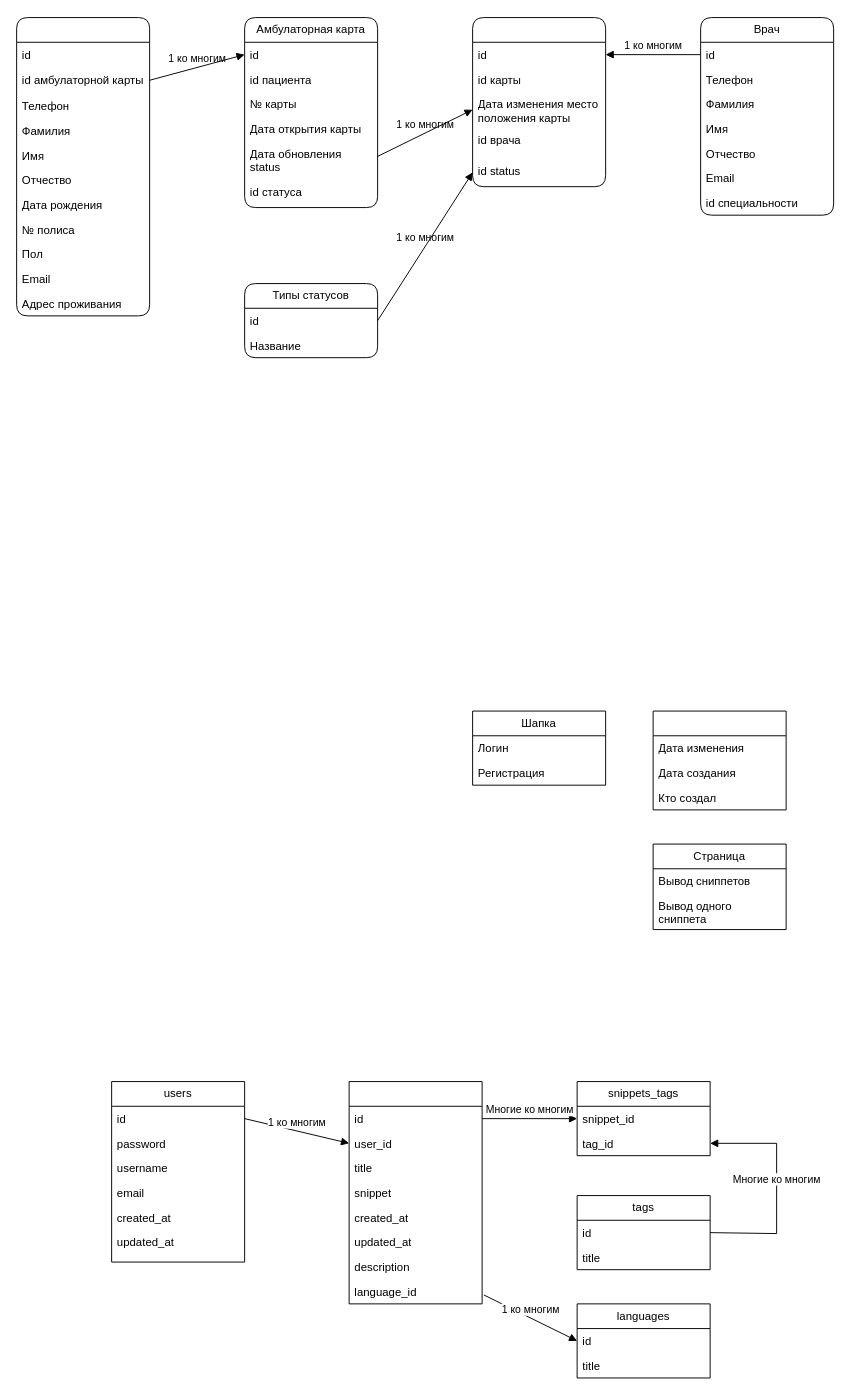
The diagram is 850 pixels wide and 1397 high, and some of its shapes have lost their labels. The box of each missing label's shape, as (x1, y1, x2, y2) in pixels:
snippets: (348, 1081, 482, 1304)
История перемещения карты: (472, 17, 606, 187)
Пациент: (16, 17, 150, 316)
Сниппет: (652, 710, 786, 810)
